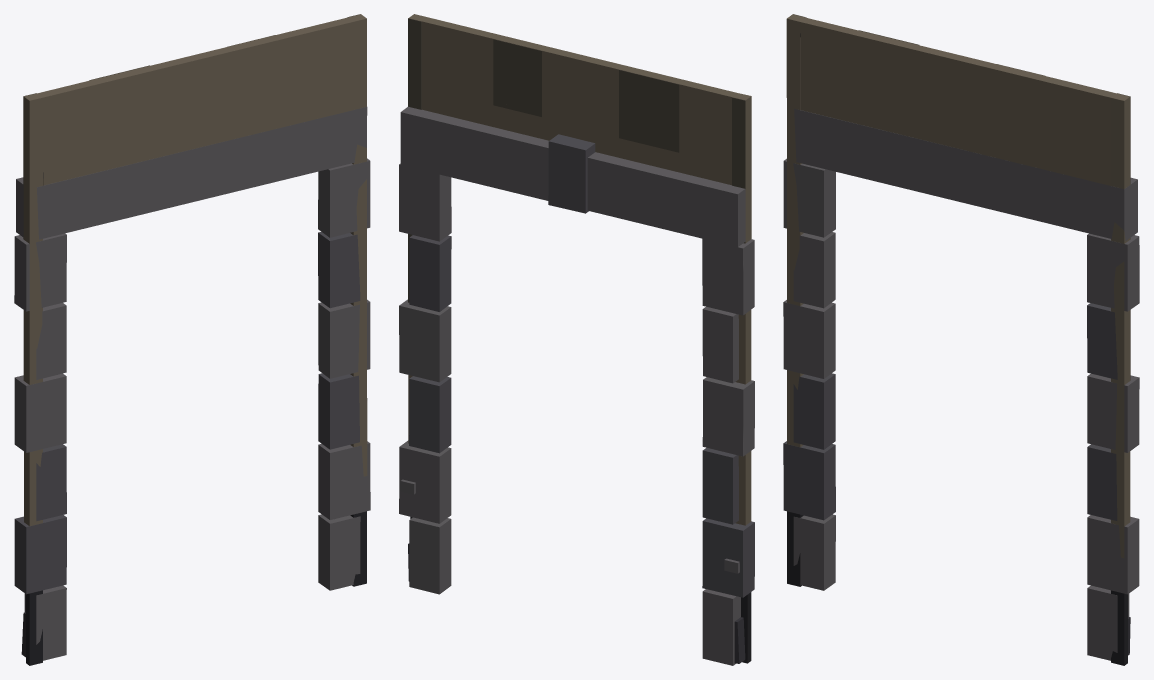
File: SM_ENV_FachadaDupla.fbx
The picture shows the model from 3 angles, left to right: view 1: azimuth 30°, elevation 25°; view 2: azimuth 150°, elevation 25°; view 3: azimuth 330°, elevation 25°; orthographic projection.
Visible parts, largest first — view 1: SM_ENV_FachadaDupla; view 2: SM_ENV_FachadaDupla; view 3: SM_ENV_FachadaDupla.
Boxes of the visible parts, x1=… form: SM_ENV_FachadaDupla: x1=14, y1=14, x2=370, y2=665; SM_ENV_FachadaDupla: x1=399, y1=14, x2=754, y2=665; SM_ENV_FachadaDupla: x1=783, y1=14, x2=1139, y2=665.
Bounding box in the file's own units: 2.04 × 3.2 × 0.162.
